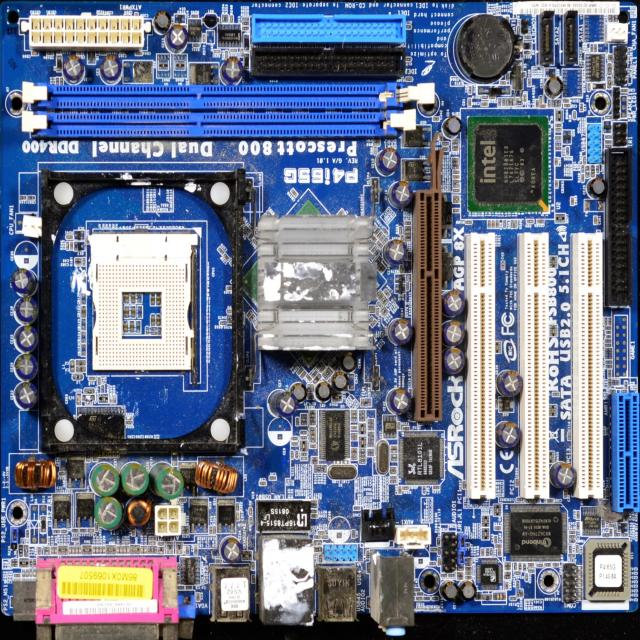Capacitor Jumper: (289, 187, 298, 198), (75, 366, 85, 372), (223, 254, 230, 262), (75, 360, 86, 365), (77, 394, 81, 406), (350, 436, 358, 442), (218, 247, 224, 255), (551, 391, 560, 396), (487, 219, 492, 228), (19, 545, 23, 555), (452, 195, 460, 200), (462, 480, 466, 489), (92, 546, 96, 555), (186, 546, 190, 555), (78, 546, 82, 555), (505, 581, 509, 590), (259, 481, 266, 486), (80, 528, 87, 533), (135, 51, 142, 56), (621, 88, 628, 93), (350, 426, 358, 430), (568, 432, 572, 440), (432, 485, 440, 489), (126, 546, 130, 554), (123, 546, 127, 554), (194, 546, 198, 554), (119, 546, 123, 554), (98, 546, 102, 554), (54, 547, 58, 555), (504, 562, 512, 566), (32, 570, 36, 578), (504, 572, 512, 576), (562, 99, 570, 103), (432, 117, 440, 121), (495, 220, 499, 228), (310, 443, 316, 448), (197, 592, 200, 602), (524, 36, 531, 40), (391, 446, 398, 450), (390, 450, 397, 454), (342, 460, 349, 464), (390, 467, 397, 471), (516, 498, 523, 502), (311, 500, 318, 504), (311, 514, 318, 518), (494, 526, 501, 530), (31, 51, 38, 55), (149, 537, 156, 541), (72, 537, 79, 541), (495, 544, 502, 548), (481, 549, 485, 556), (552, 562, 559, 566), (504, 566, 511, 570), (496, 593, 500, 600), (539, 104, 546, 108), (453, 175, 460, 179), (453, 199, 460, 203), (237, 512, 240, 521), (141, 545, 144, 554), (72, 546, 75, 555), (492, 219, 495, 228), (361, 398, 364, 406), (310, 431, 316, 435), (88, 528, 94, 532), (144, 546, 147, 554), (95, 546, 98, 554), (102, 547, 105, 555), (51, 547, 54, 555), (486, 548, 489, 556), (503, 593, 506, 601), (468, 98, 471, 106), (452, 147, 458, 151), (555, 157, 558, 165), (555, 180, 558, 188), (453, 184, 459, 188), (571, 197, 574, 205), (70, 242, 73, 250), (75, 258, 81, 262), (226, 286, 232, 290), (334, 461, 341, 464), (87, 529, 94, 532), (53, 530, 60, 533), (61, 530, 68, 533), (569, 531, 576, 534), (498, 549, 501, 556), (22, 569, 25, 576), (520, 590, 523, 597), (489, 96, 496, 99), (481, 102, 488, 105), (564, 104, 571, 107), (453, 180, 460, 183), (453, 209, 460, 212), (594, 217, 597, 224), (537, 220, 544, 223), (404, 222, 411, 225), (454, 170, 459, 174), (403, 427, 409, 430), (351, 449, 357, 452), (391, 454, 397, 457), (150, 542, 156, 545), (528, 563, 534, 566), (14, 574, 20, 577), (454, 189, 460, 192), (98, 378, 100, 386), (399, 486, 401, 494), (577, 511, 579, 519), (117, 546, 119, 554), (69, 546, 71, 554), (76, 547, 78, 555), (252, 562, 254, 570), (26, 569, 28, 577), (30, 570, 32, 578), (500, 592, 502, 600), (494, 592, 496, 600), (536, 100, 538, 108), (405, 227, 410, 230)
Connector: (25, 81, 402, 136), (468, 232, 496, 500), (578, 232, 602, 500), (524, 233, 548, 498), (616, 393, 640, 513)
IC: (467, 115, 549, 212), (503, 504, 567, 561), (476, 558, 503, 591)
Resistor Jumper: (84, 388, 95, 394), (309, 421, 317, 426), (300, 430, 308, 435), (300, 452, 308, 457), (202, 34, 206, 43), (524, 573, 528, 582), (225, 14, 229, 23), (82, 258, 86, 267), (309, 413, 316, 418), (291, 436, 298, 441), (536, 563, 543, 568), (220, 321, 227, 326), (109, 395, 113, 403), (350, 418, 358, 422), (300, 418, 308, 422), (291, 442, 299, 446), (295, 451, 299, 459), (290, 451, 294, 459), (71, 529, 79, 533), (621, 533, 629, 537), (568, 535, 576, 539), (544, 563, 552, 567), (514, 562, 518, 570), (523, 563, 527, 571), (604, 135, 612, 139), (465, 220, 473, 224), (351, 410, 357, 415), (517, 25, 520, 35), (351, 414, 358, 418), (309, 427, 316, 431), (300, 436, 307, 440), (309, 438, 316, 442), (359, 448, 366, 452), (359, 453, 366, 457), (391, 458, 398, 462), (359, 460, 366, 464), (59, 472, 66, 476), (402, 486, 409, 490), (514, 571, 521, 575), (504, 576, 511, 580), (587, 84, 591, 91), (555, 136, 562, 140), (442, 147, 449, 151), (191, 14, 198, 18), (66, 235, 73, 239), (249, 507, 252, 516), (519, 562, 522, 571), (222, 14, 225, 23), (399, 226, 402, 235), (400, 265, 403, 274), (126, 416, 132, 420), (125, 421, 133, 424), (310, 435, 316, 439), (351, 452, 357, 456), (321, 465, 324, 473), (314, 465, 317, 473), (237, 504, 240, 512), (318, 531, 324, 535), (322, 535, 328, 539), (576, 545, 579, 553), (490, 548, 493, 556), (406, 57, 412, 61), (406, 77, 412, 81), (573, 111, 576, 119), (555, 142, 561, 146), (526, 220, 534, 223), (514, 220, 517, 228), (511, 220, 514, 228), (66, 242, 69, 250), (406, 282, 409, 290), (88, 377, 95, 380), (193, 44, 200, 47), (351, 457, 358, 460), (359, 457, 366, 460), (230, 49, 237, 52), (213, 50, 220, 53), (524, 51, 531, 54), (213, 527, 216, 534), (225, 51, 228, 58), (568, 554, 575, 557), (555, 147, 562, 150), (583, 157, 586, 164), (452, 166, 459, 169), (242, 17, 249, 20), (230, 16, 233, 23), (242, 22, 249, 25), (242, 27, 249, 30), (114, 394, 116, 404), (391, 471, 396, 475), (406, 25, 411, 29), (312, 505, 318, 508), (312, 510, 318, 513), (510, 597, 516, 600), (482, 96, 488, 99), (556, 124, 562, 127), (555, 128, 561, 131), (443, 142, 449, 145), (318, 465, 320, 473), (250, 518, 252, 526), (582, 164, 584, 172), (582, 174, 584, 182), (504, 220, 506, 228), (398, 422, 400, 429)
Transistor: (52, 493, 72, 528), (75, 492, 94, 528), (216, 499, 236, 533), (189, 498, 208, 532), (74, 230, 85, 240), (74, 241, 85, 251)
